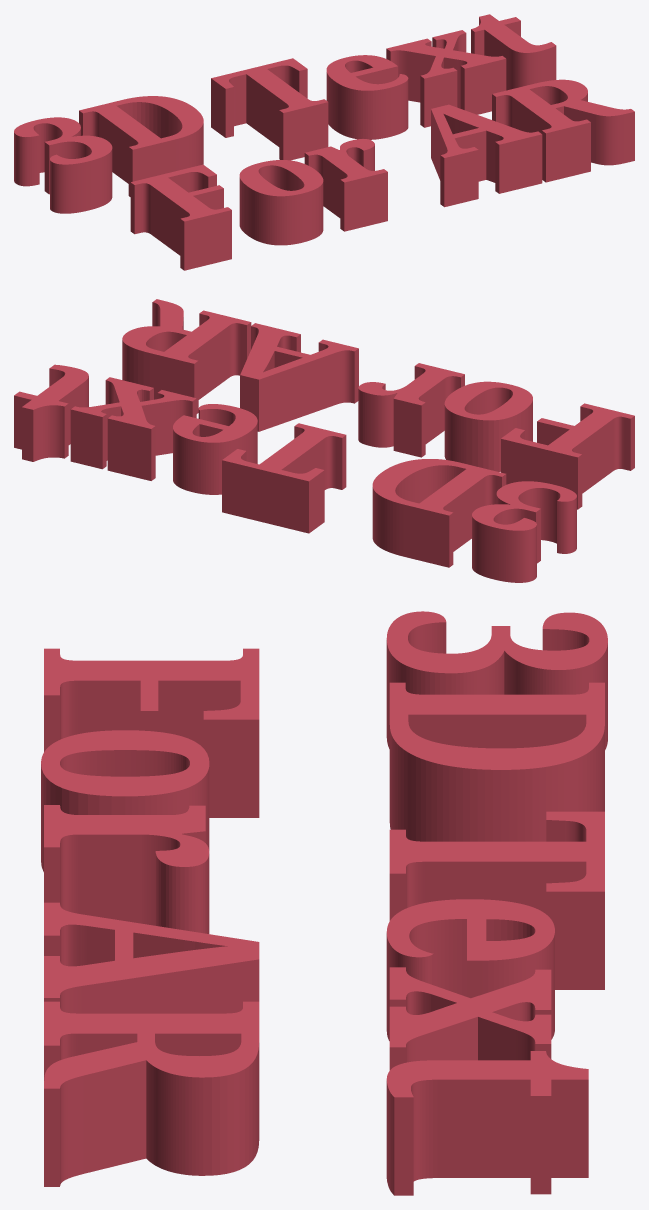
The model's file is Glorious Allis.glb.
The picture shows the model from 3 angles, top to bottom: view 1: azimuth 30°, elevation 25°; view 2: azimuth 150°, elevation 25°; view 3: azimuth 270°, elevation 25°; orthographic projection. The views are drawn at different scales.
Visible parts, largest first — view 1: Mesh_Mesh_head_geo.001_lambert2SG.001; view 2: Mesh_Mesh_head_geo.001_lambert2SG.001; view 3: Mesh_Mesh_head_geo.001_lambert2SG.001.
Part boxes in pixels (x1,y1,x2,y2): Mesh_Mesh_head_geo.001_lambert2SG.001: [14, 14, 634, 270]; Mesh_Mesh_head_geo.001_lambert2SG.001: [14, 299, 634, 582]; Mesh_Mesh_head_geo.001_lambert2SG.001: [41, 611, 607, 1195].
Size of the model in its own units: 106 by 10 by 52.24.
